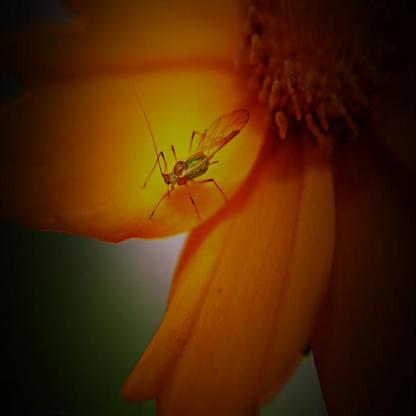aphid: (137, 104, 267, 217)
